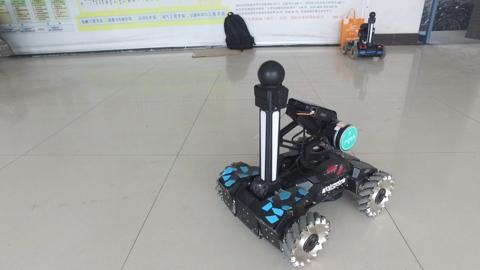bag: (220, 9, 258, 54), (340, 7, 366, 47)
chariot: (215, 58, 395, 269), (340, 10, 388, 60)
